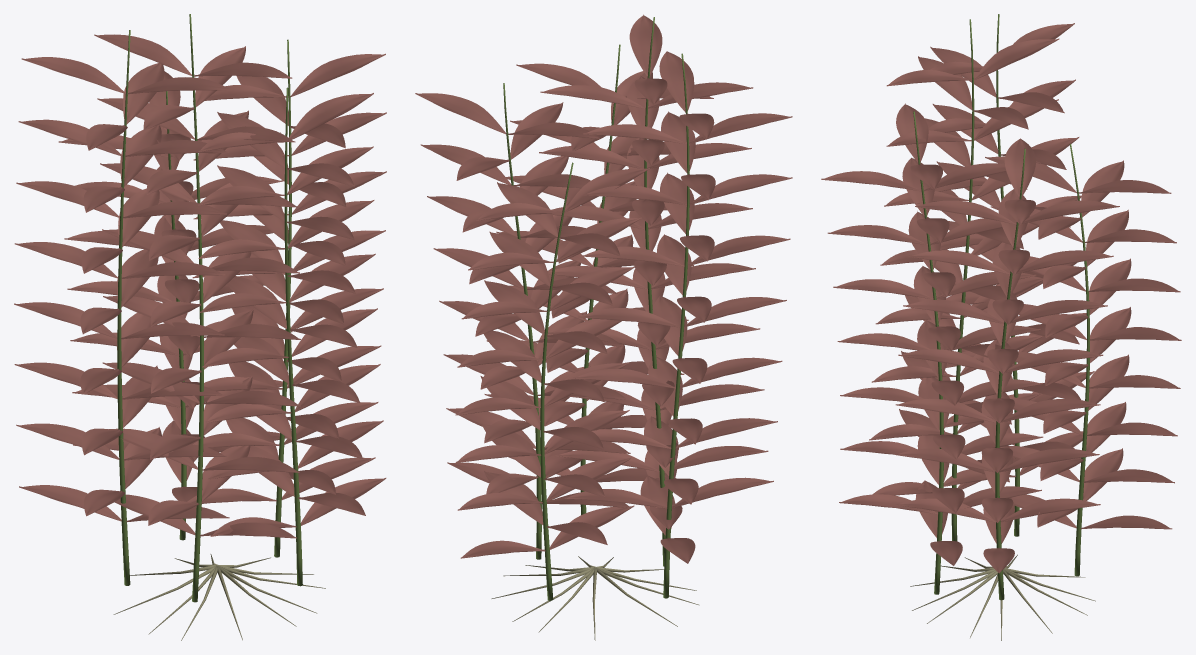
File: alternanthera-desktop.glb
The picture shows the model from 3 angles, left to right: view 1: azimuth 30°, elevation 25°; view 2: azimuth 150°, elevation 25°; view 3: azimuth 270°, elevation 25°; orthographic projection. The views are drawn at different scales.
Parts seen in each view (by area): view 1: opposite-leaf, branching-stem, anchoring-root; view 2: opposite-leaf, branching-stem, anchoring-root; view 3: opposite-leaf, branching-stem, anchoring-root.
Boxes of the visible parts, bbox=[...] form: opposite-leaf: bbox=[14, 34, 386, 538]; branching-stem: bbox=[117, 14, 302, 602]; anchoring-root: bbox=[113, 554, 325, 640]; opposite-leaf: bbox=[415, 14, 792, 563]; branching-stem: bbox=[503, 17, 689, 600]; anchoring-root: bbox=[491, 556, 699, 640]; opposite-leaf: bbox=[821, 23, 1181, 573]; branching-stem: bbox=[913, 14, 1089, 600]; anchoring-root: bbox=[910, 554, 1095, 640].
Size of the model in its own units: 0.468 by 0.7811 by 0.457.
